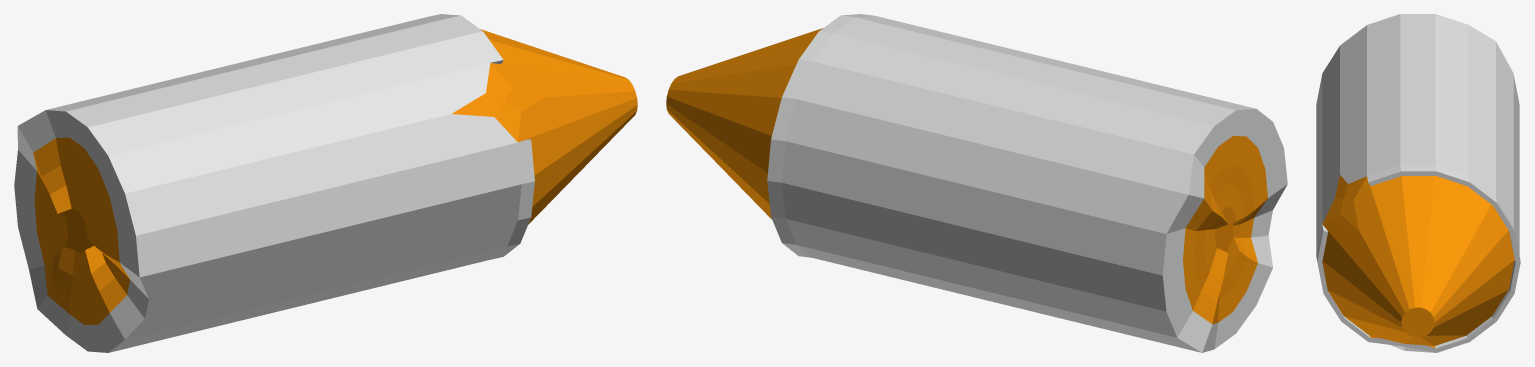
The model's file is Broken log_9.fbx.
3 views of the same model, side by side, from view 1: azimuth 30°, elevation 25°; view 2: azimuth 150°, elevation 25°; view 3: azimuth 270°, elevation 25° (orthographic). The views are drawn at different scales.
Visible parts, largest first — view 1: Circle.212; view 2: Circle.212; view 3: Circle.212.
Part boxes in pixels (box(x1,y1,x2,y2)): Circle.212: box(14, 14, 637, 352); Circle.212: box(666, 14, 1287, 352); Circle.212: box(1316, 14, 1520, 352).
Size of the model in its own units: 66.1 by 25.3 by 25.71.
